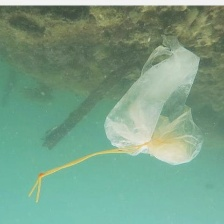plastic_bag: (104, 32, 209, 168)
